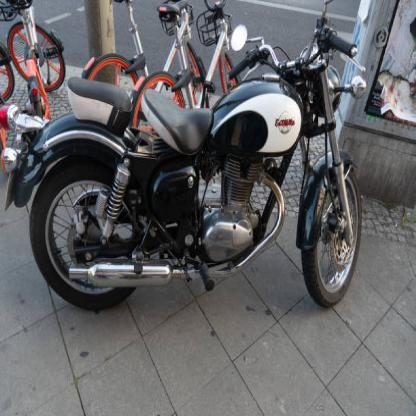Motorcycle: (19, 46, 360, 298)
